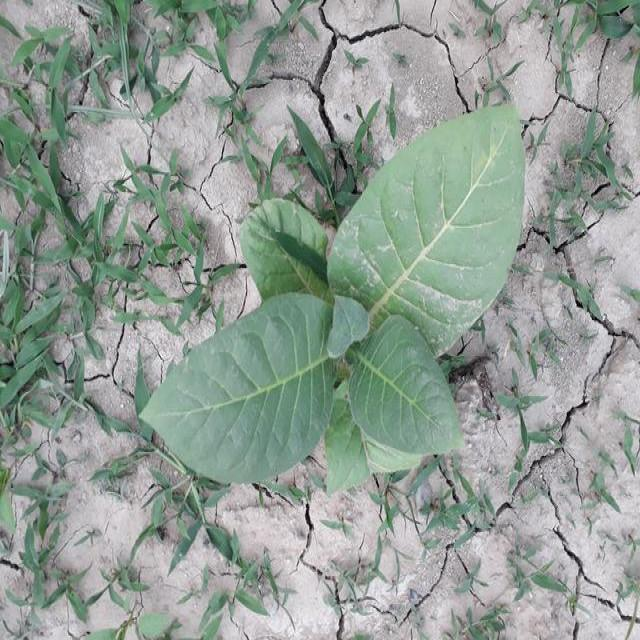crop: (139, 89, 534, 504)
